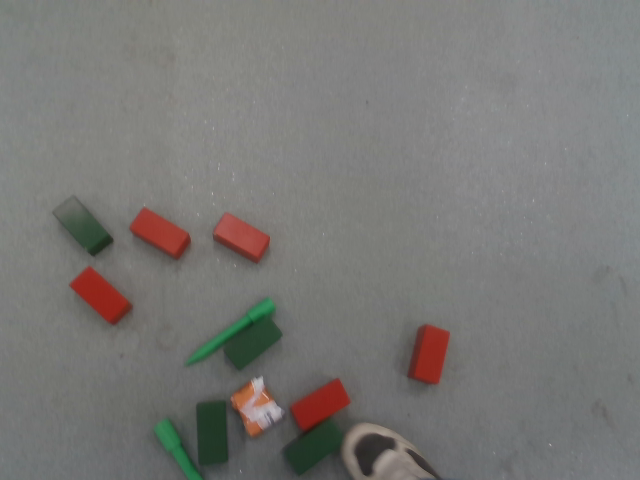Probe: (183, 295, 277, 368), (152, 416, 203, 480)
